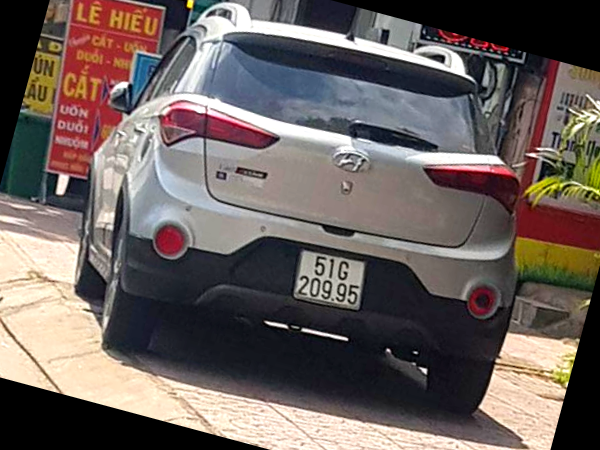lisence: (293, 249, 366, 312)
